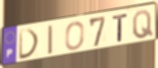7: (88, 16, 108, 49)
D: (18, 27, 41, 61)
I: (47, 24, 54, 57)
O: (64, 21, 86, 51)
Q: (131, 9, 154, 40)
T: (112, 12, 129, 43)
